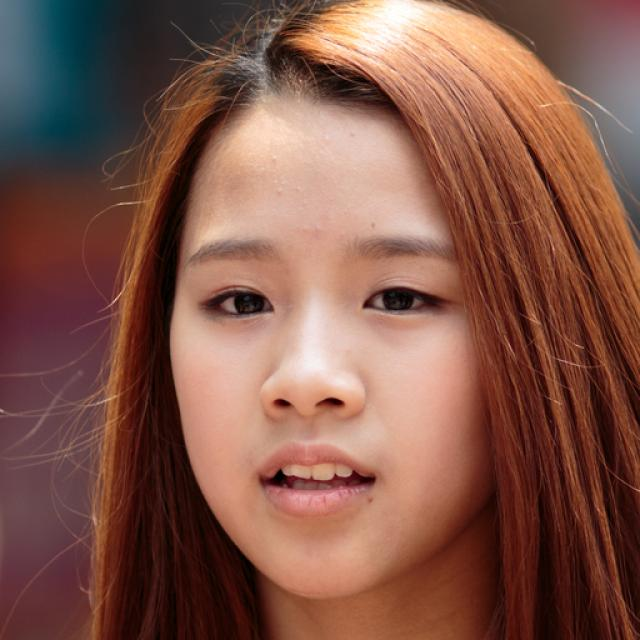Acne: (300, 221, 325, 240), (267, 184, 288, 196), (265, 154, 281, 169)
